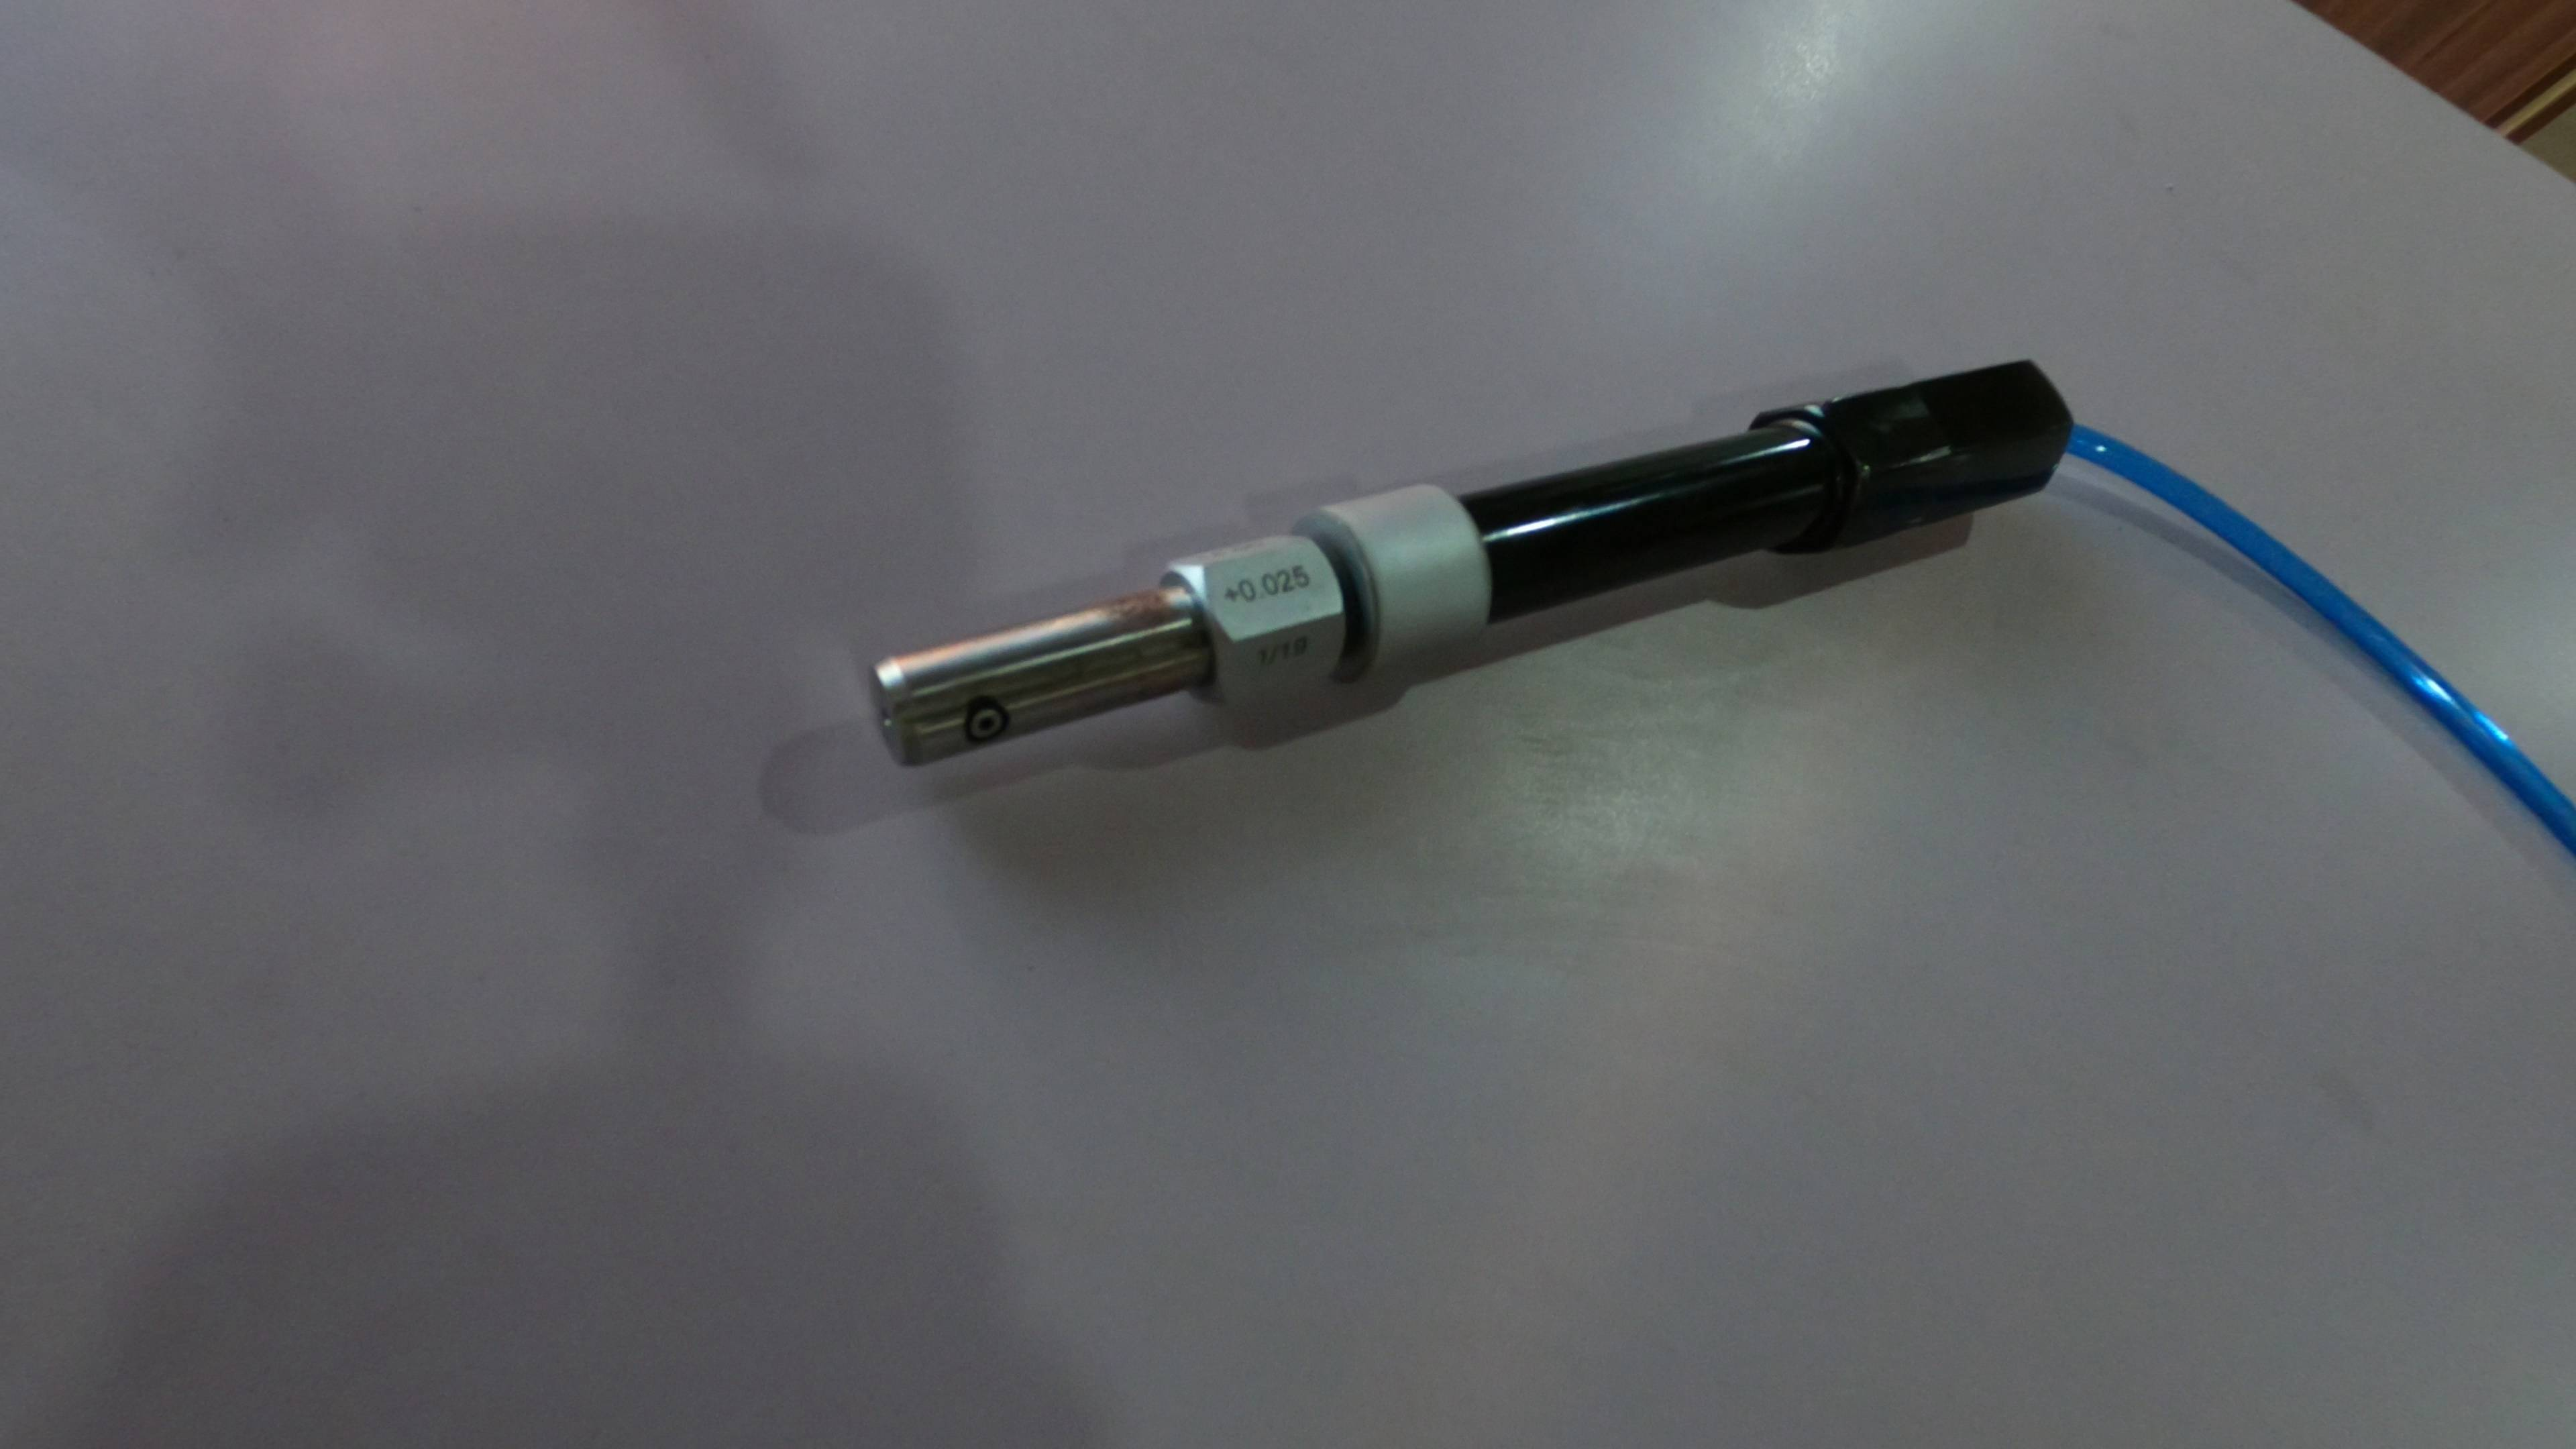air_gauge: (863, 352, 2074, 824)
